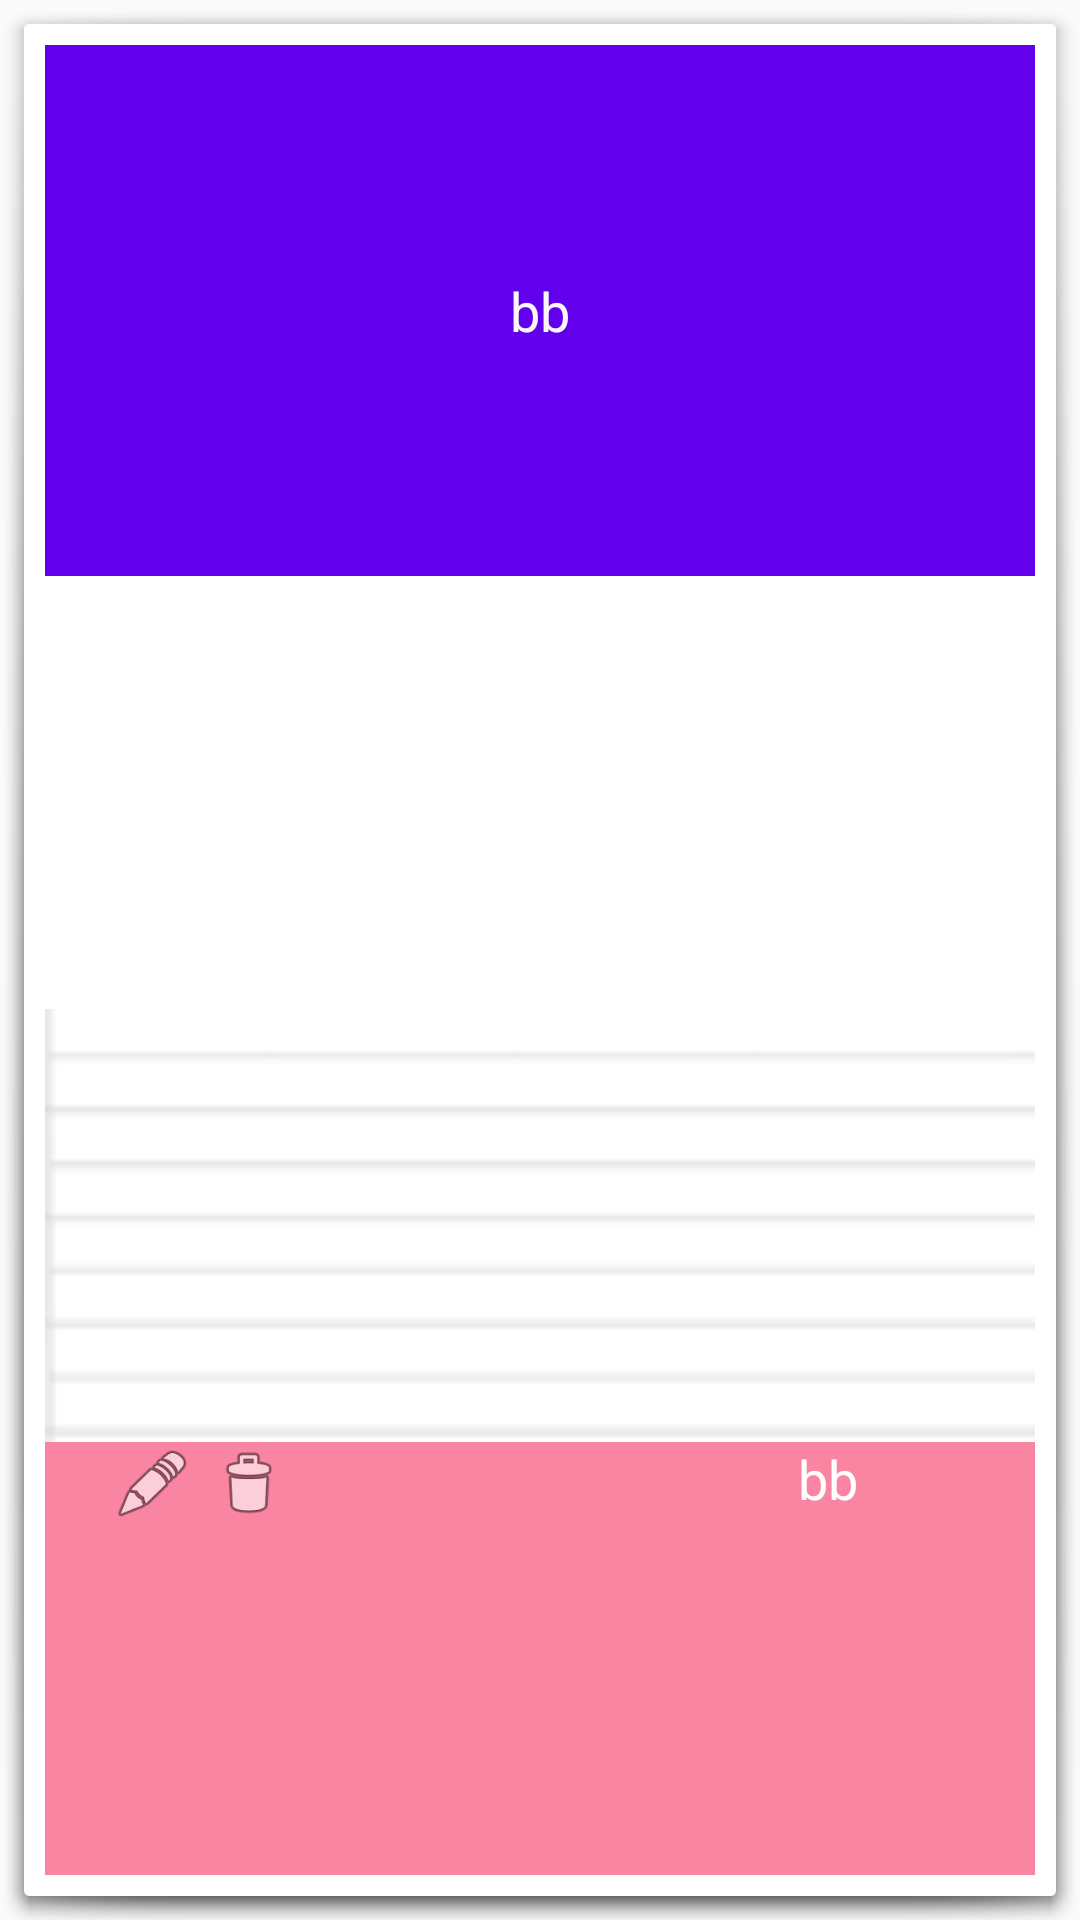

Icon bounding boxes for this 1080px×1920px phone screenshot, format [x1,y1,x2,y2]:
delete: [226,1452,272,1513]
